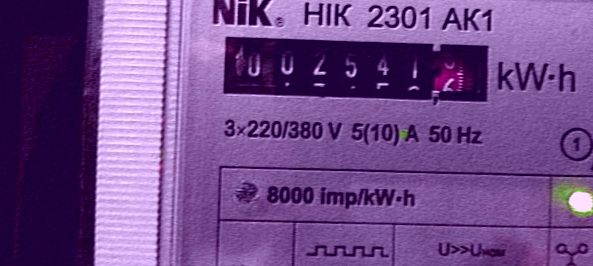0: (275, 44, 295, 78), (243, 49, 262, 79)
1: (403, 48, 420, 81)
2: (306, 45, 328, 80)
4: (372, 47, 390, 79)
5: (339, 48, 357, 81)
6: (437, 73, 454, 95)
screen: (205, 18, 509, 122)
